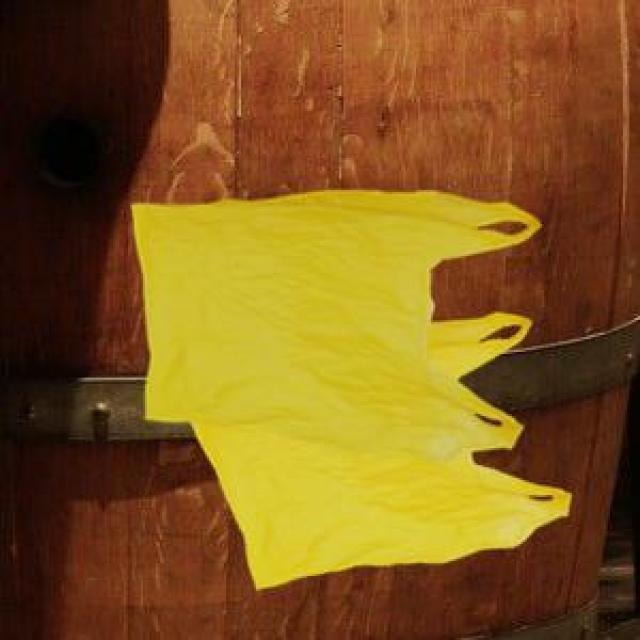waste: (132, 190, 569, 588)
